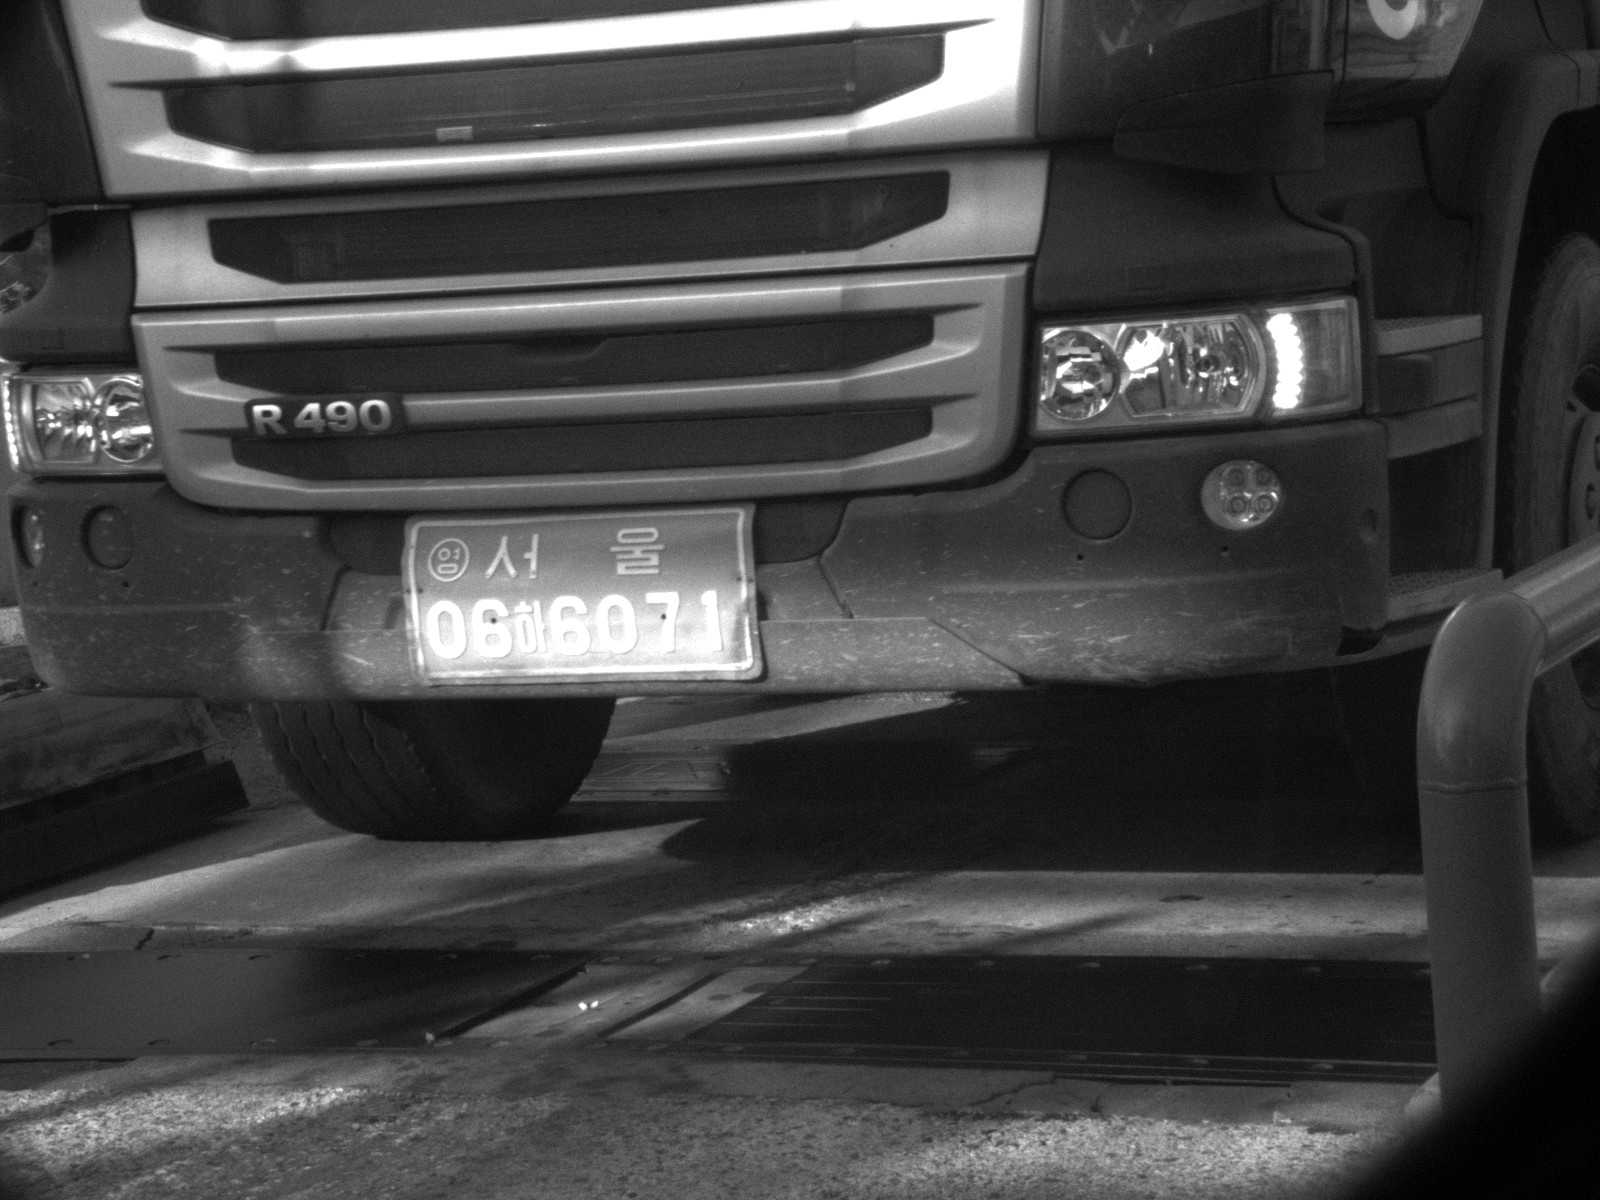car: (1, 1, 1599, 853)
plate: (397, 507, 767, 687)
